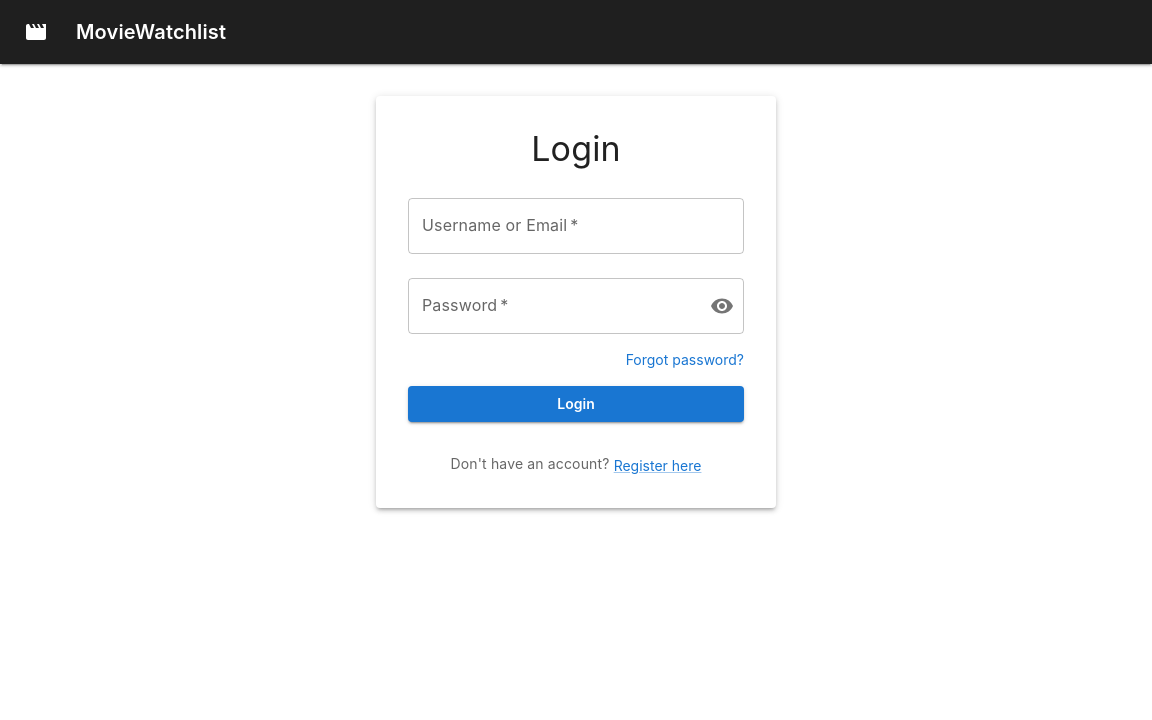
Test: LoginForm › should show error message on login failure
This screenshot has width=1152, height=720.
Type "testuser" into the field labelled "Username or Email *" at (576, 226), box [408,198,744,254]
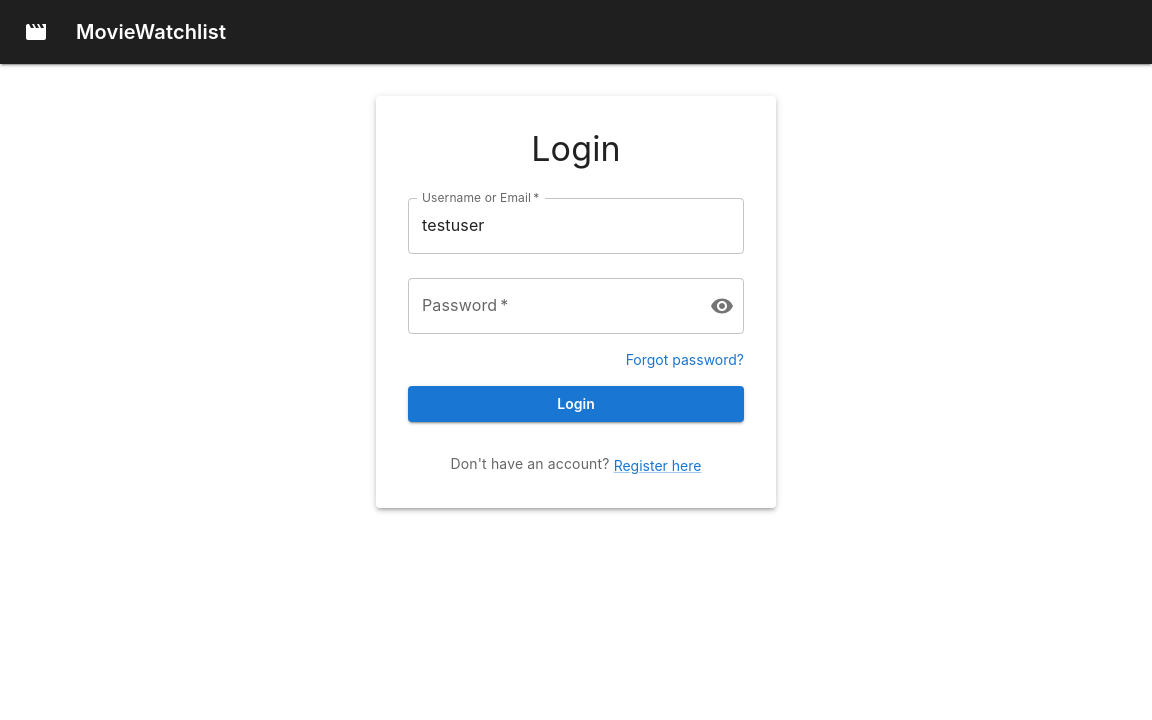
Type "WrongPassword123" into the password field named "password" at (551, 306), box [408,278,694,334]
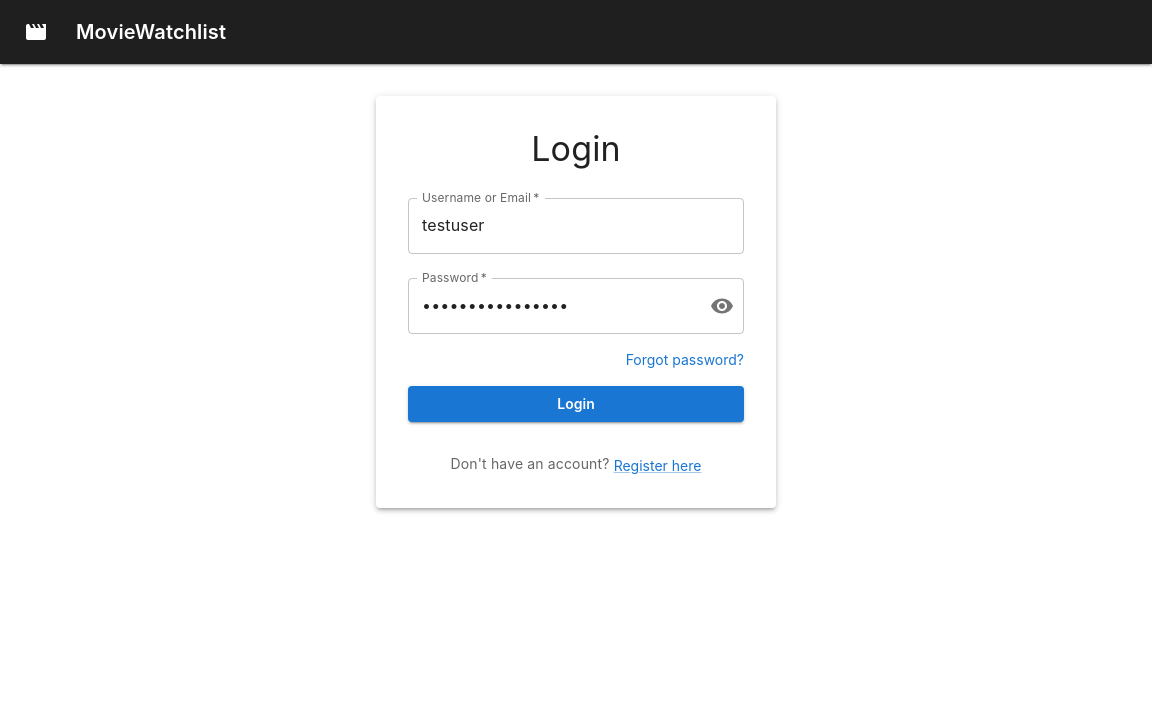
Click the button "Login" at (576, 404), box [408,386,744,422]
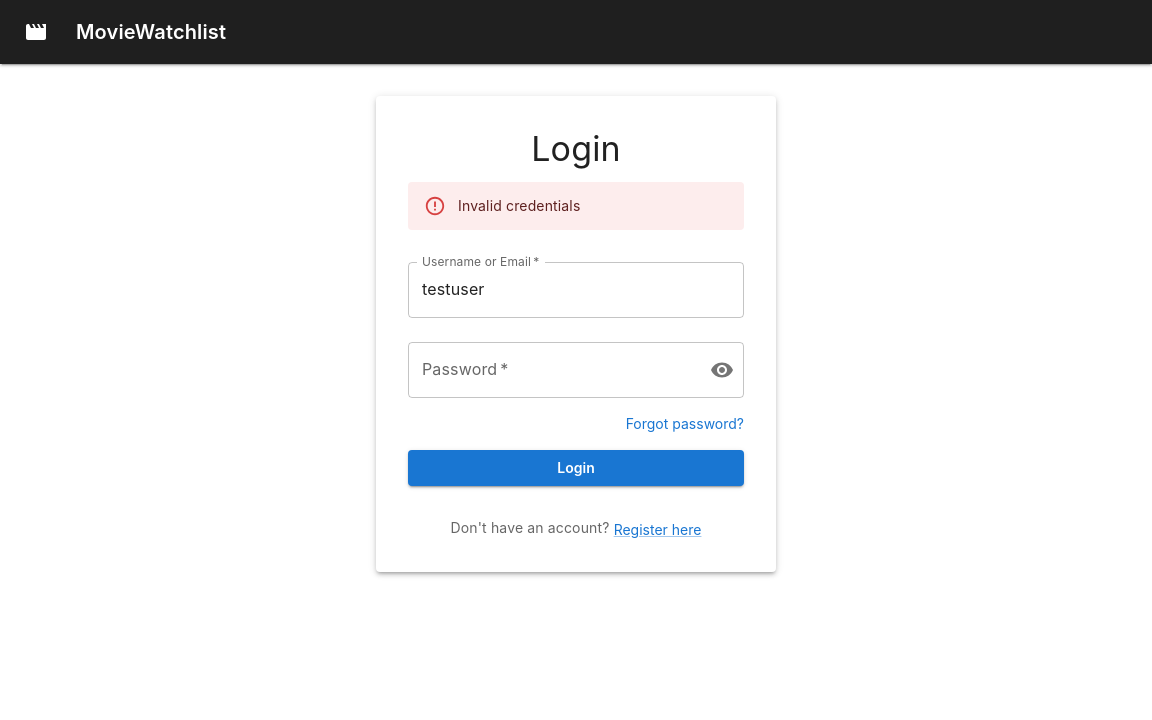
Result: the text "Invalid credentials" is shown at [458,197,580,214]
